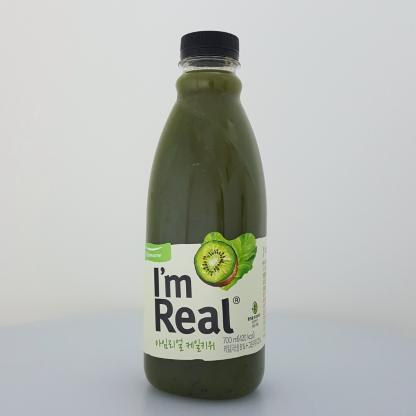-----------700ML: (144, 30, 267, 400)
